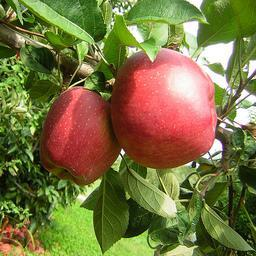apple: (111, 49, 218, 170), (39, 88, 121, 185)
